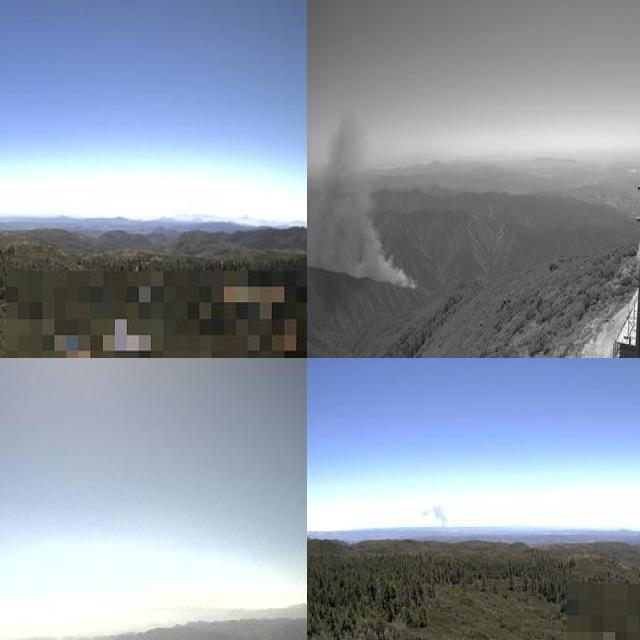smoke: (307, 109, 419, 291), (423, 501, 454, 528)
